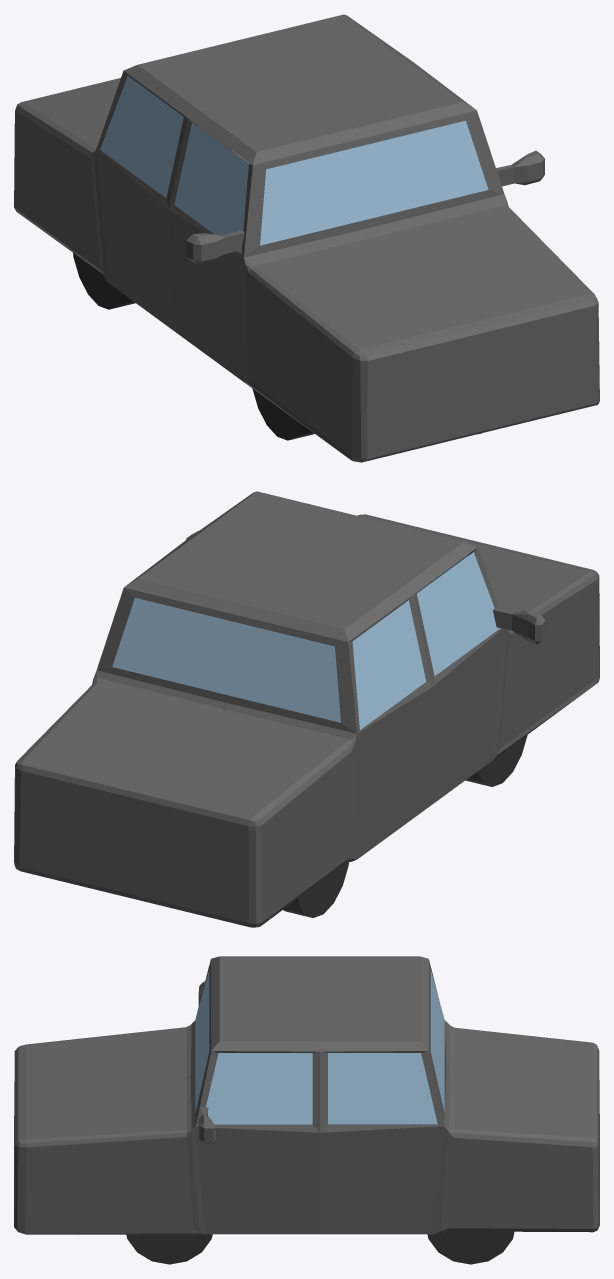
The model's file is Car.fbx.
The picture shows the model from 3 angles, top to bottom: view 1: azimuth 30°, elevation 25°; view 2: azimuth 150°, elevation 25°; view 3: azimuth 270°, elevation 25°; orthographic projection. The views are drawn at different scales.
Visible parts, largest first — view 1: Cube.001; view 2: Cube.001; view 3: Cube.001.
Part boxes in pixels (box(x1,y1,x2,y2)): Cube.001: box(14, 14, 599, 462); Cube.001: box(14, 491, 599, 927); Cube.001: box(14, 956, 599, 1264).
Size of the model in its own units: 501 by 352 by 851.
